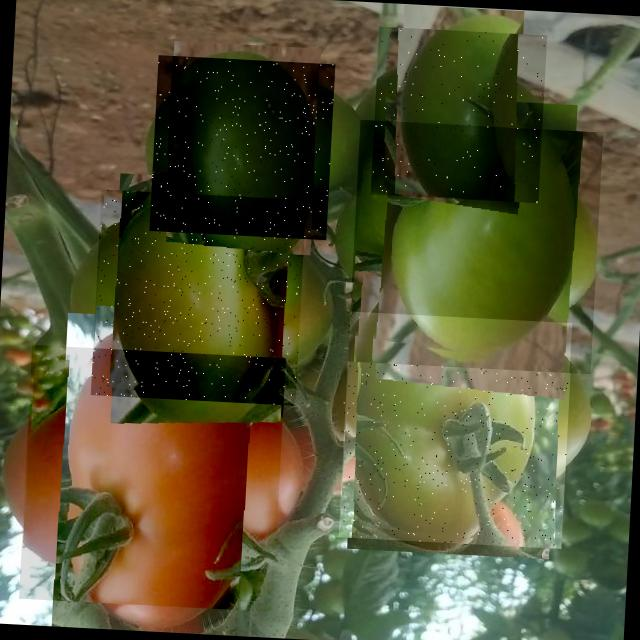Ripe Tomato: (19, 344, 286, 612)
Unripe Tomato: (348, 120, 603, 374), (335, 311, 573, 548), (90, 190, 306, 406), (150, 55, 336, 240), (370, 27, 548, 204)
